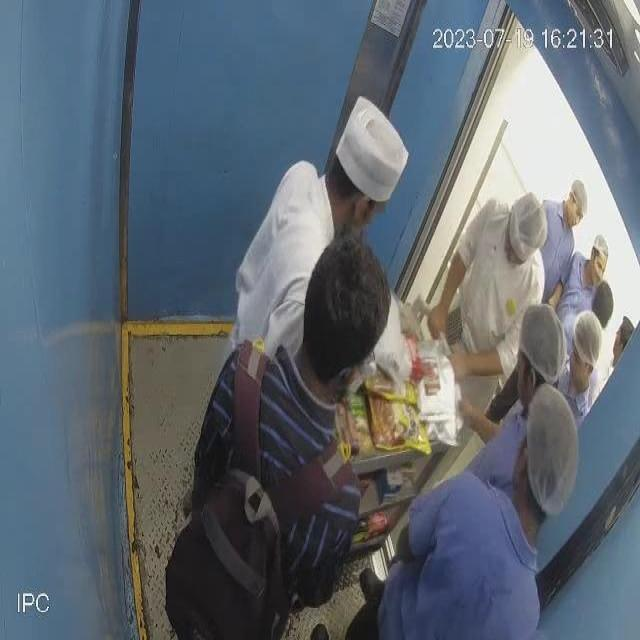person: (168, 233, 396, 640), (230, 83, 421, 372), (397, 386, 589, 638), (419, 161, 571, 384)
